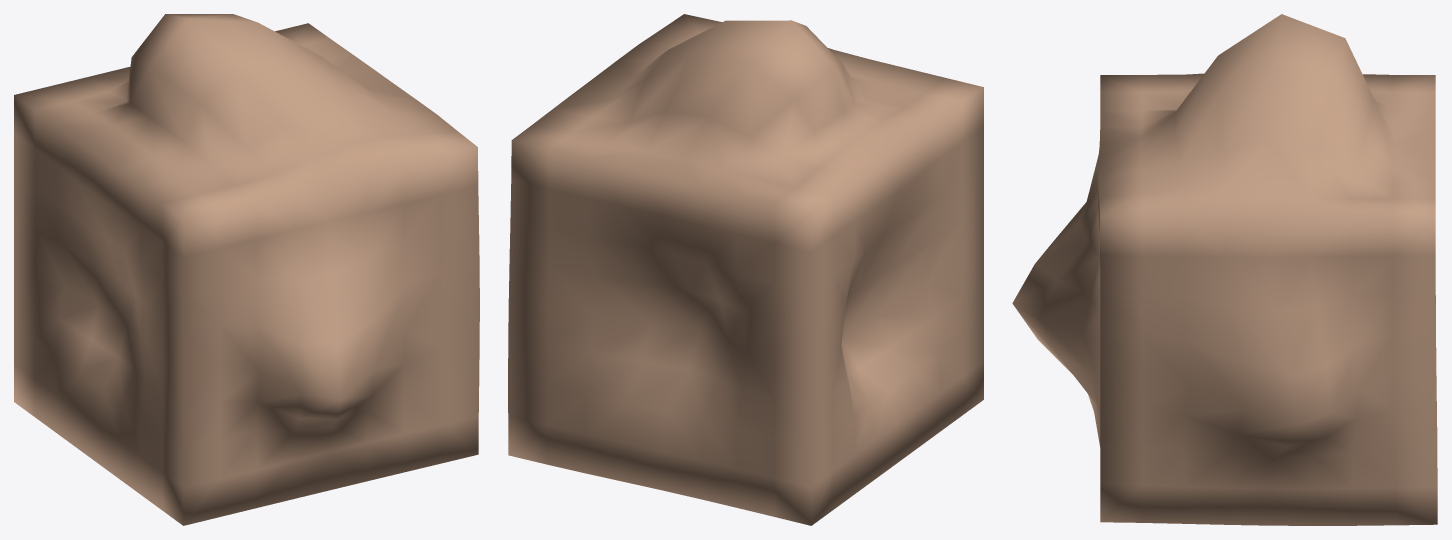
3 renders of one model, left to right at view 1: azimuth 30°, elevation 25°; view 2: azimuth 150°, elevation 25°; view 3: azimuth 270°, elevation 25°, orthographic. The views are drawn at different scales.
Parts seen in each view (by area): view 1: cube; view 2: cube; view 3: cube.
Part boxes in pixels (<box>): cube: <box>14,14,479,525</box>; cube: <box>508,14,983,525</box>; cube: <box>1012,14,1437,525</box>.
Bounding box in the file's own units: 35.63 × 40.91 × 38.03.
